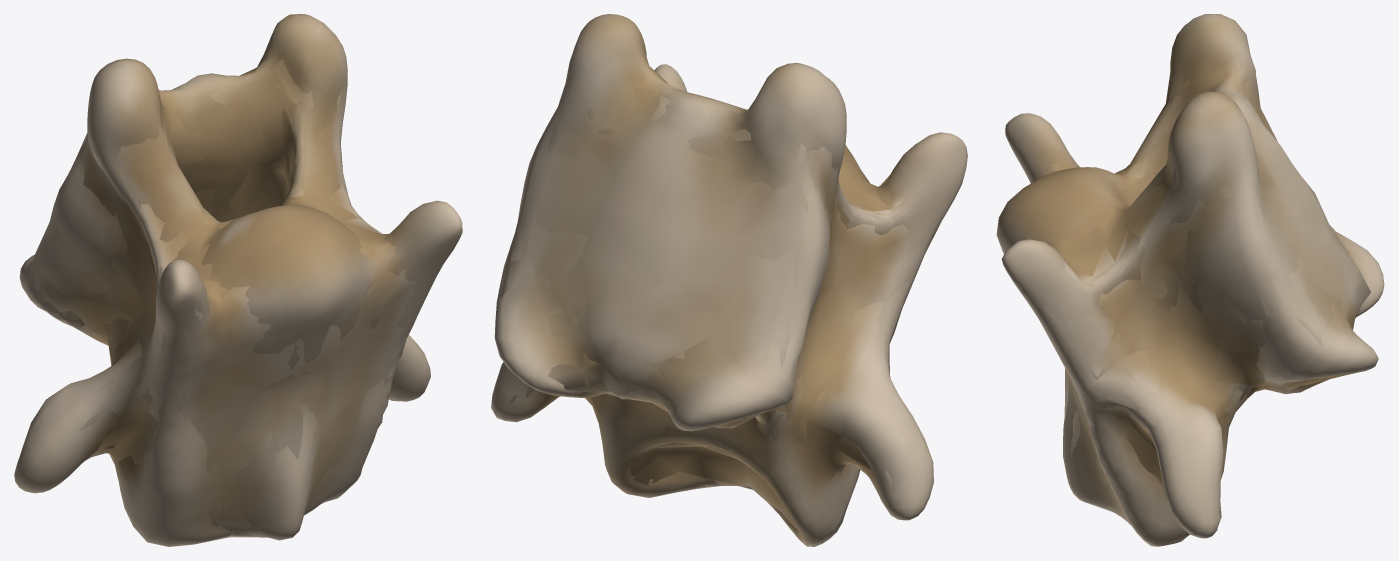
The model's file is vertebra cervicalis 6.fbx.
The picture shows the model from 3 angles, left to right: view 1: azimuth 30°, elevation 25°; view 2: azimuth 150°, elevation 25°; view 3: azimuth 270°, elevation 25°; orthographic projection. The views are drawn at different scales.
Parts seen in each view (by area): view 1: vertebra cervicalis 6, vertebra cervicalis 6 low; view 2: vertebra cervicalis 6, vertebra cervicalis 6 low; view 3: vertebra cervicalis 6, vertebra cervicalis 6 low.
Boxes of the visible parts, x1,y1,x2,y2 form: vertebra cervicalis 6: (14, 14, 462, 546); vertebra cervicalis 6 low: (30, 59, 429, 537); vertebra cervicalis 6: (491, 14, 967, 546); vertebra cervicalis 6 low: (499, 52, 940, 528); vertebra cervicalis 6: (996, 14, 1384, 546); vertebra cervicalis 6 low: (1022, 68, 1361, 523).
Bounding box in the file's own units: 11.87 × 13.24 × 10.13.
1 material, 1 textured.
